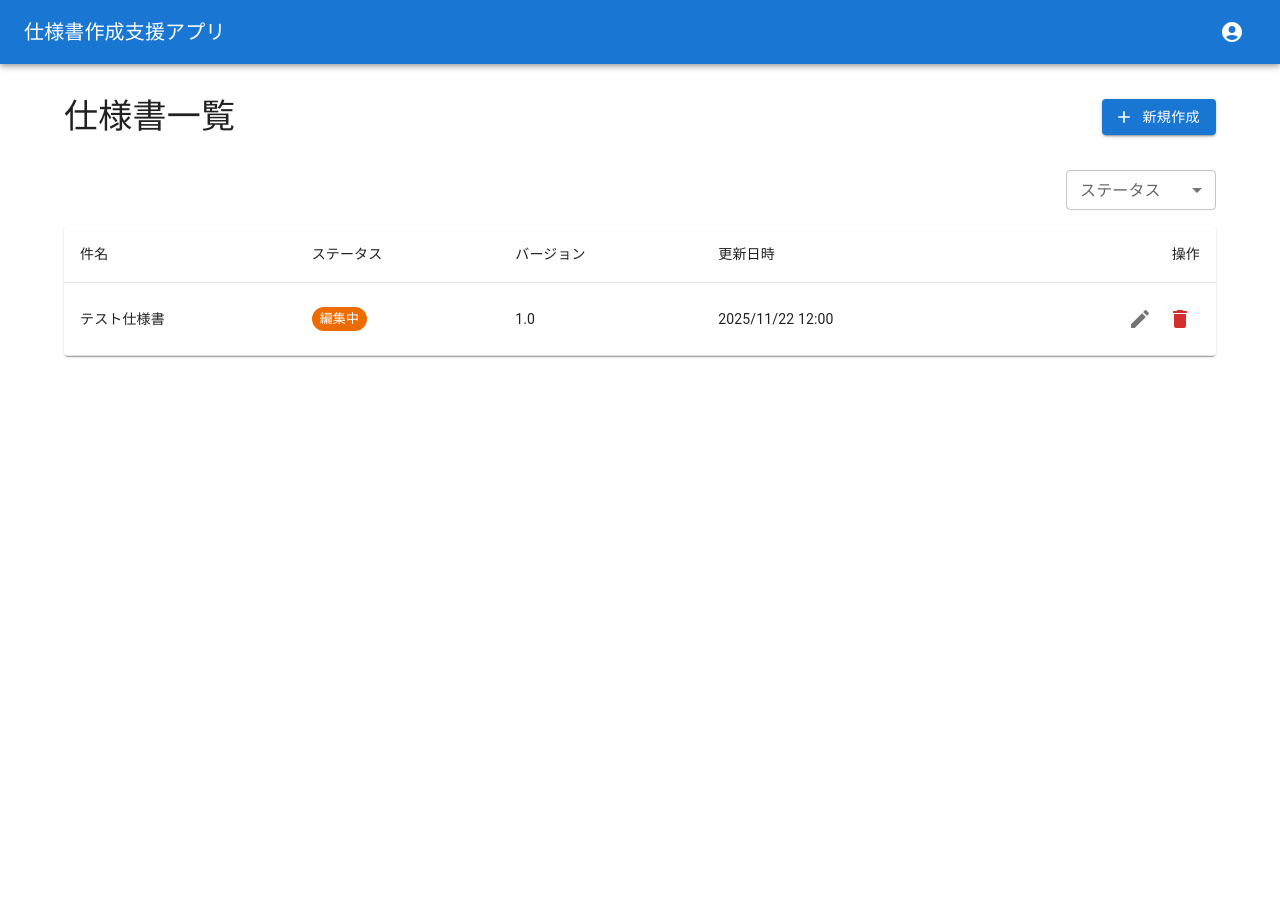
Test: Dashboard › should open create modal when new button clicked
Step 1. Click the button "新規作成" → {"x": 1159, "y": 117}, box x1=1102 y1=99 x2=1216 y2=135
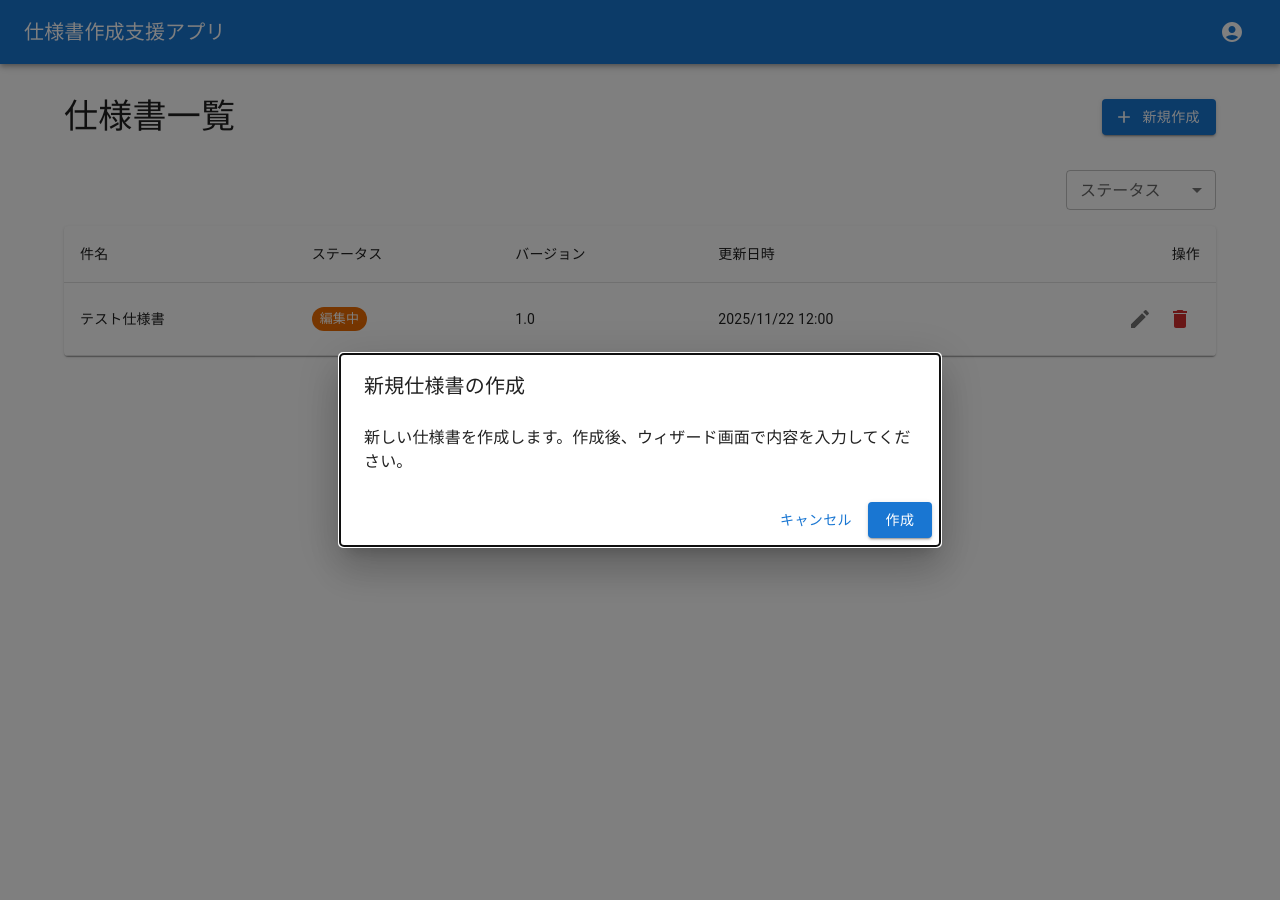
Check: the heading "新規仕様書の作成" is shown, box x1=364 y1=374 x2=525 y2=398
